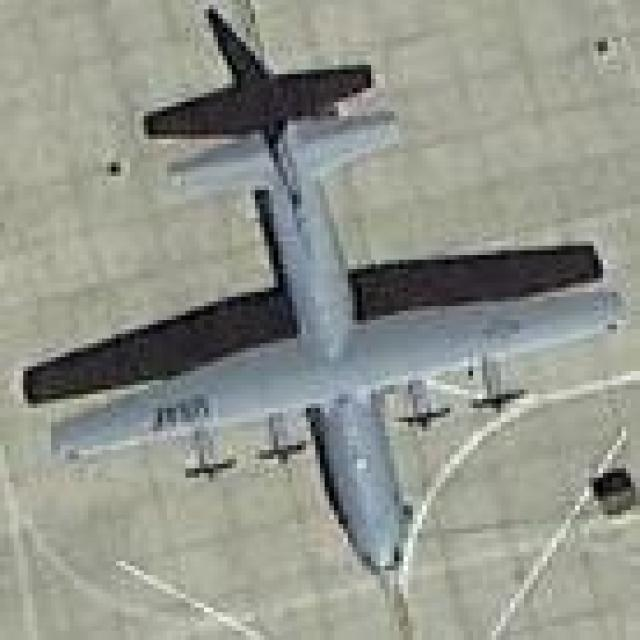C-130_TopDown: (24, 0, 627, 588)
